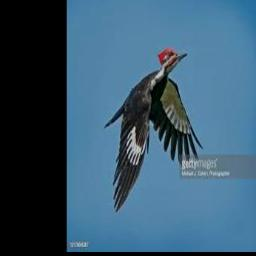Woodpecker: (104, 48, 203, 213)
